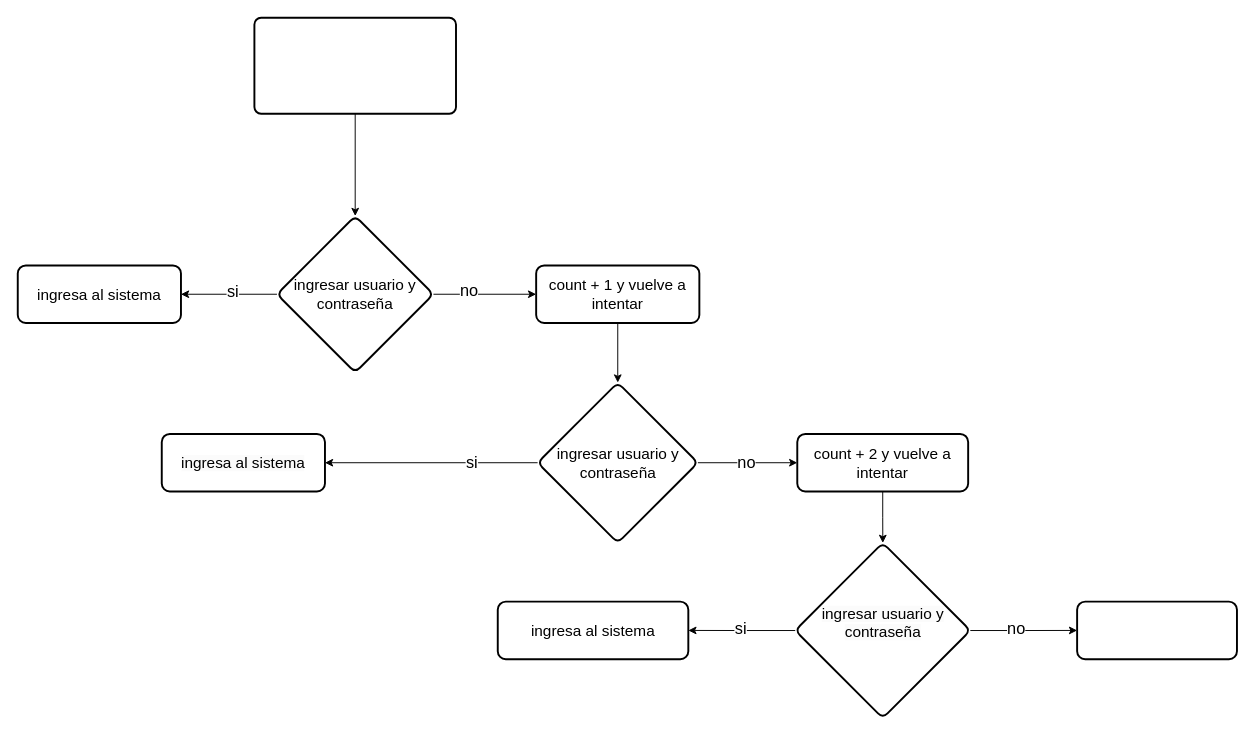
The diagram is 1254 pixels wide and 735 high, and some of its shapes have lost their labels. The centre of each missing label's shape, as x and y in pixels:
"count + 3 sale del sistema" belongs at (x=1156, y=630).
"pantalla de inicio" belongs at (x=354, y=65).
